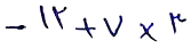character: (75, 18, 98, 38), (104, 14, 122, 38), (169, 11, 187, 35), (52, 5, 67, 30), (140, 23, 158, 43), (4, 23, 28, 35), (39, 4, 50, 30)
